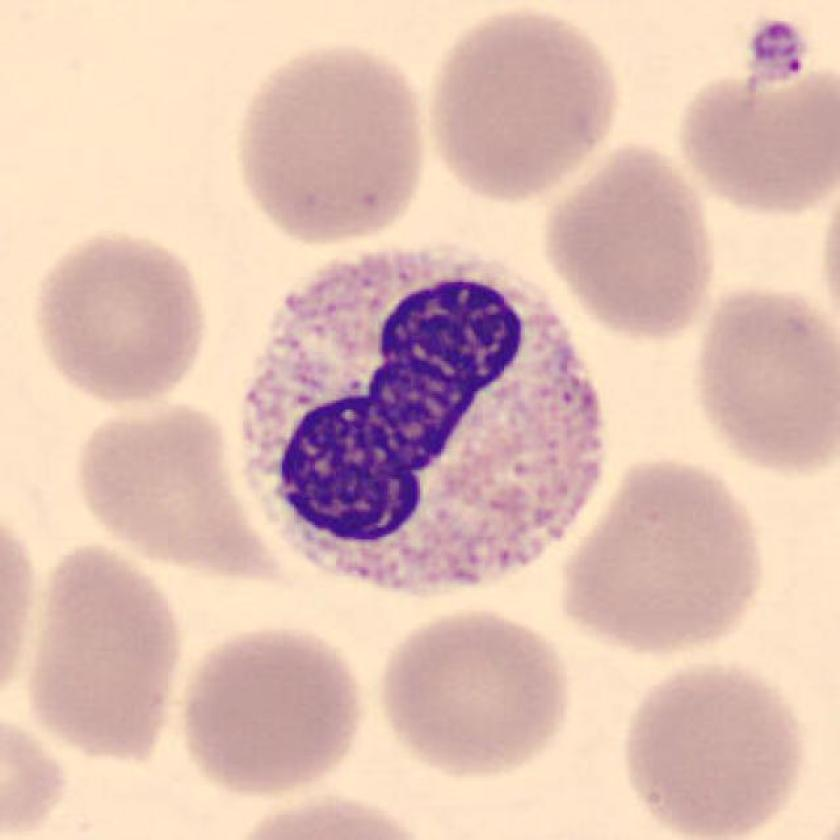neutrophil: (242, 249, 610, 596)
